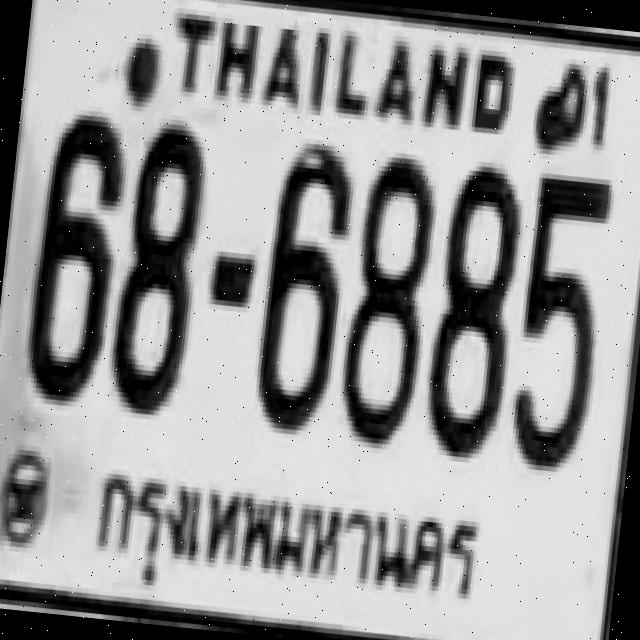5: (506, 170, 612, 472)
6: (20, 106, 128, 404), (248, 136, 354, 432)
8: (334, 149, 437, 446), (105, 118, 208, 414), (420, 158, 522, 455)
Bangkok: (82, 448, 483, 624)
